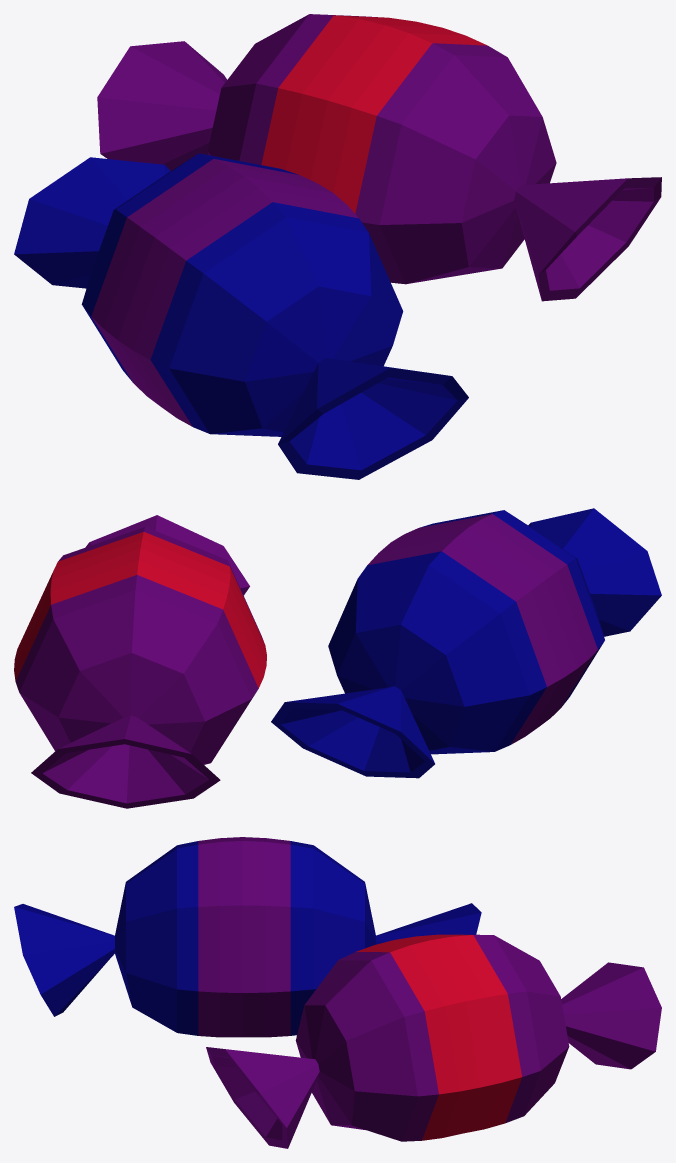
The model's file is Candy_01.fbx.
The picture shows the model from 3 angles, top to bottom: view 1: azimuth 30°, elevation 25°; view 2: azimuth 150°, elevation 25°; view 3: azimuth 270°, elevation 25°; orthographic projection. The views are drawn at different scales.
Parts seen in each view (by area): view 1: Candy_01; view 2: Candy_01; view 3: Candy_01.
Boxes of the visible parts, x1,y1,x2,y2 form: Candy_01: (14,14,661,479); Candy_01: (14,508,661,808); Candy_01: (14,837,661,1148).
Bounding box in the file's own units: 4.13 × 1.6 × 5.17.
